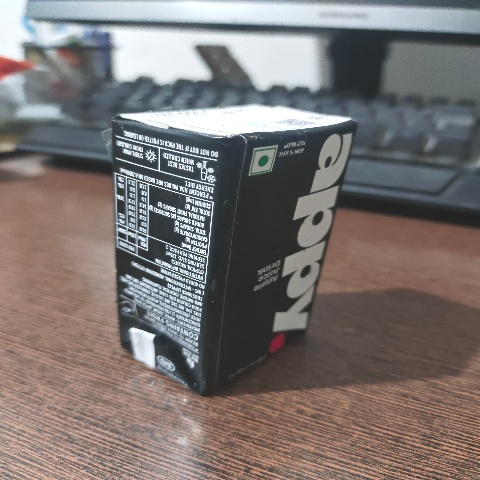appy: (94, 78, 370, 406)
